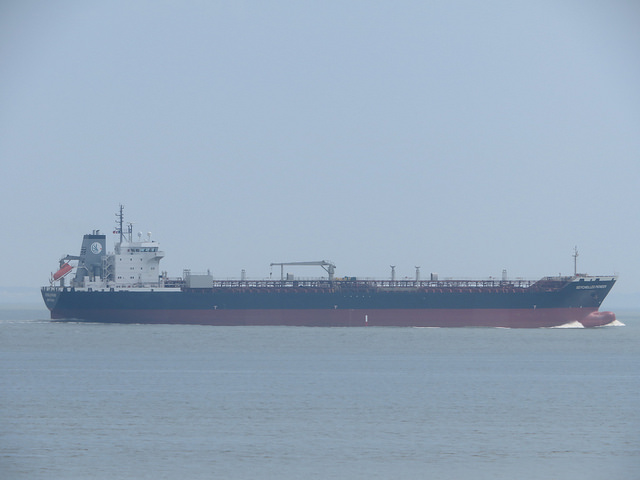tanker: (38, 204, 625, 329)
